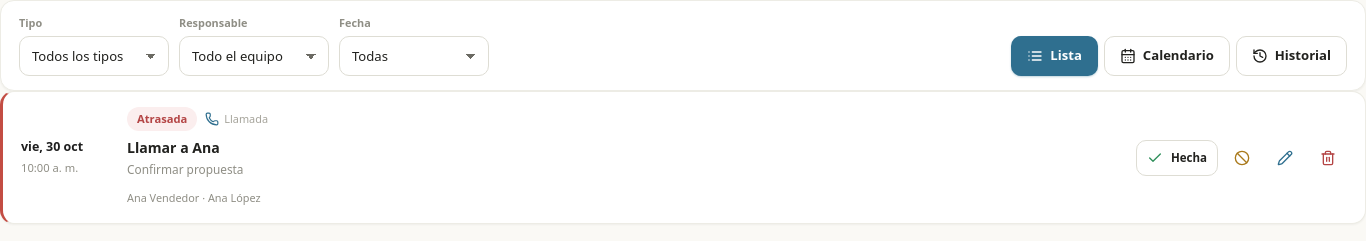
Scenario: un error al cancelar se muestra en el aviso
Click the button named "Cancelar Llamar a Ana".
click(1242, 158)  # box 1223,140 -> 1261,176
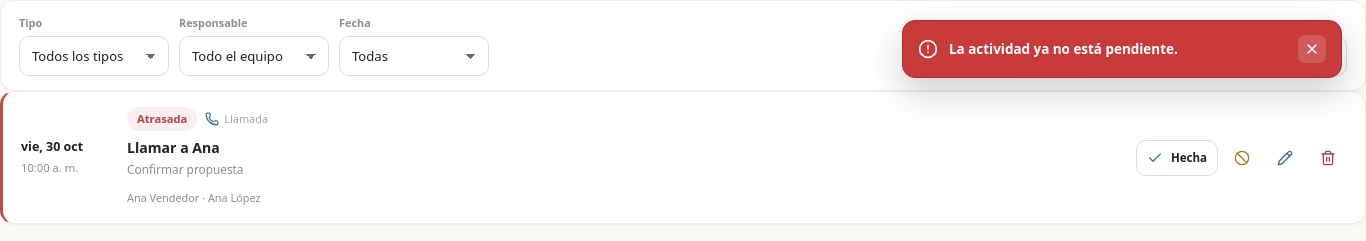
Now the message reads "La actividad ya no está pendiente.", box 949,40 -> 1178,58
